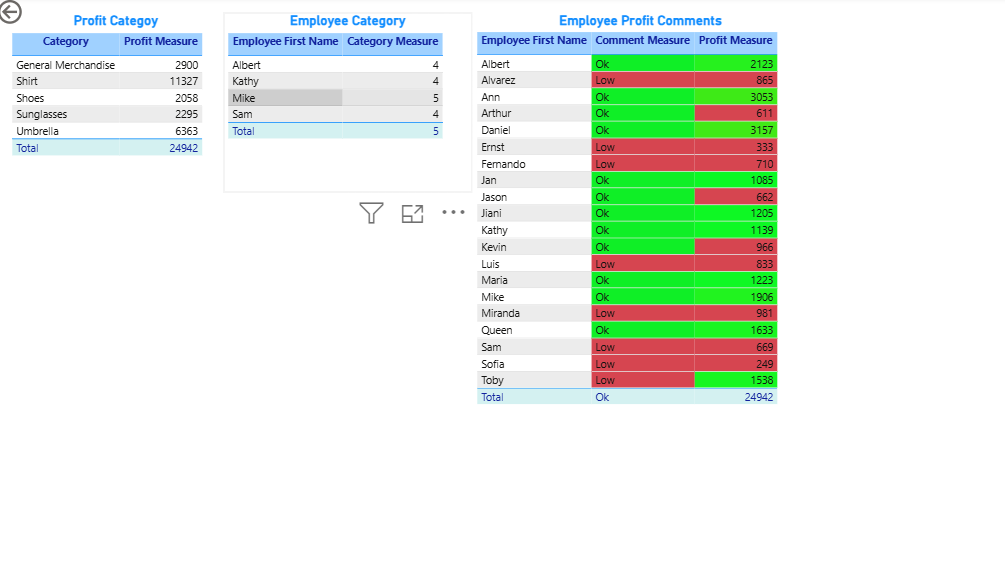

The page's visual inventory and layout, read from the dashboard file:
{"tool":"powerbi","page":{"name":"Page 1","canvas":[1280,720],"ordinal":0},"visuals":[{"type":"tableEx","title":"Profit Categoy","fields":{"Values":["Merged Sales.Category","Merged Sales.Profit Measure"]},"box":[16.7,20,273.3,206.7],"z":0},{"type":"actionButton","box":[0,0,100,40],"z":1000},{"type":"tableEx","title":"Employee Category","fields":{"Values":["Employees.Employee First Name","PriceList.Category Measure"]},"box":[290,20,313.3,228.3],"z":2000},{"type":"tableEx","title":"Employee Profit Comments","fields":{"Values":["Employees.Employee First Name","Merged Sales.Comment Measure","Merged Sales.Profit Measure"]},"box":[603.3,20,423.3,690],"z":3000}]}

Visuals, with their boxes on the page's 1280x720 design canvas (x1, y1, x2, y2). These are canvas units, not pixel positions in the 1005x561 screenshot, which may show the page scaled, cropped or inside an application window:
"Profit Categoy" tableEx: <region>17, 20, 290, 227</region>
actionButton: <region>0, 0, 100, 40</region>
"Employee Category" tableEx: <region>290, 20, 603, 248</region>
"Employee Profit Comments" tableEx: <region>603, 20, 1027, 710</region>
